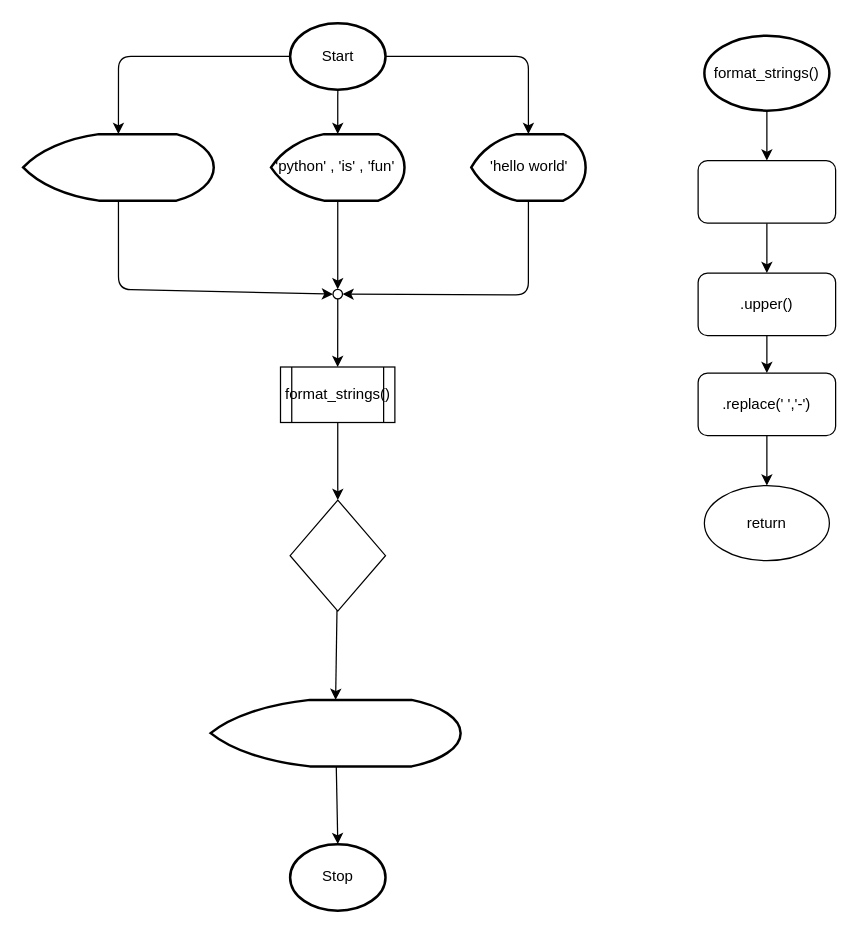
Image size: 858x933. Some labels were removed from this diagram. Each missing label, with the box of its shape:
"HELLOWORLDTHISISATEST": (209, 698, 461, 767)
' '.join(): (697, 159, 836, 223)
'hello' , 'world' , 'this' , 'is' , 'a' , 'test': (21, 132, 214, 201)
modified strings: (289, 499, 386, 611)
